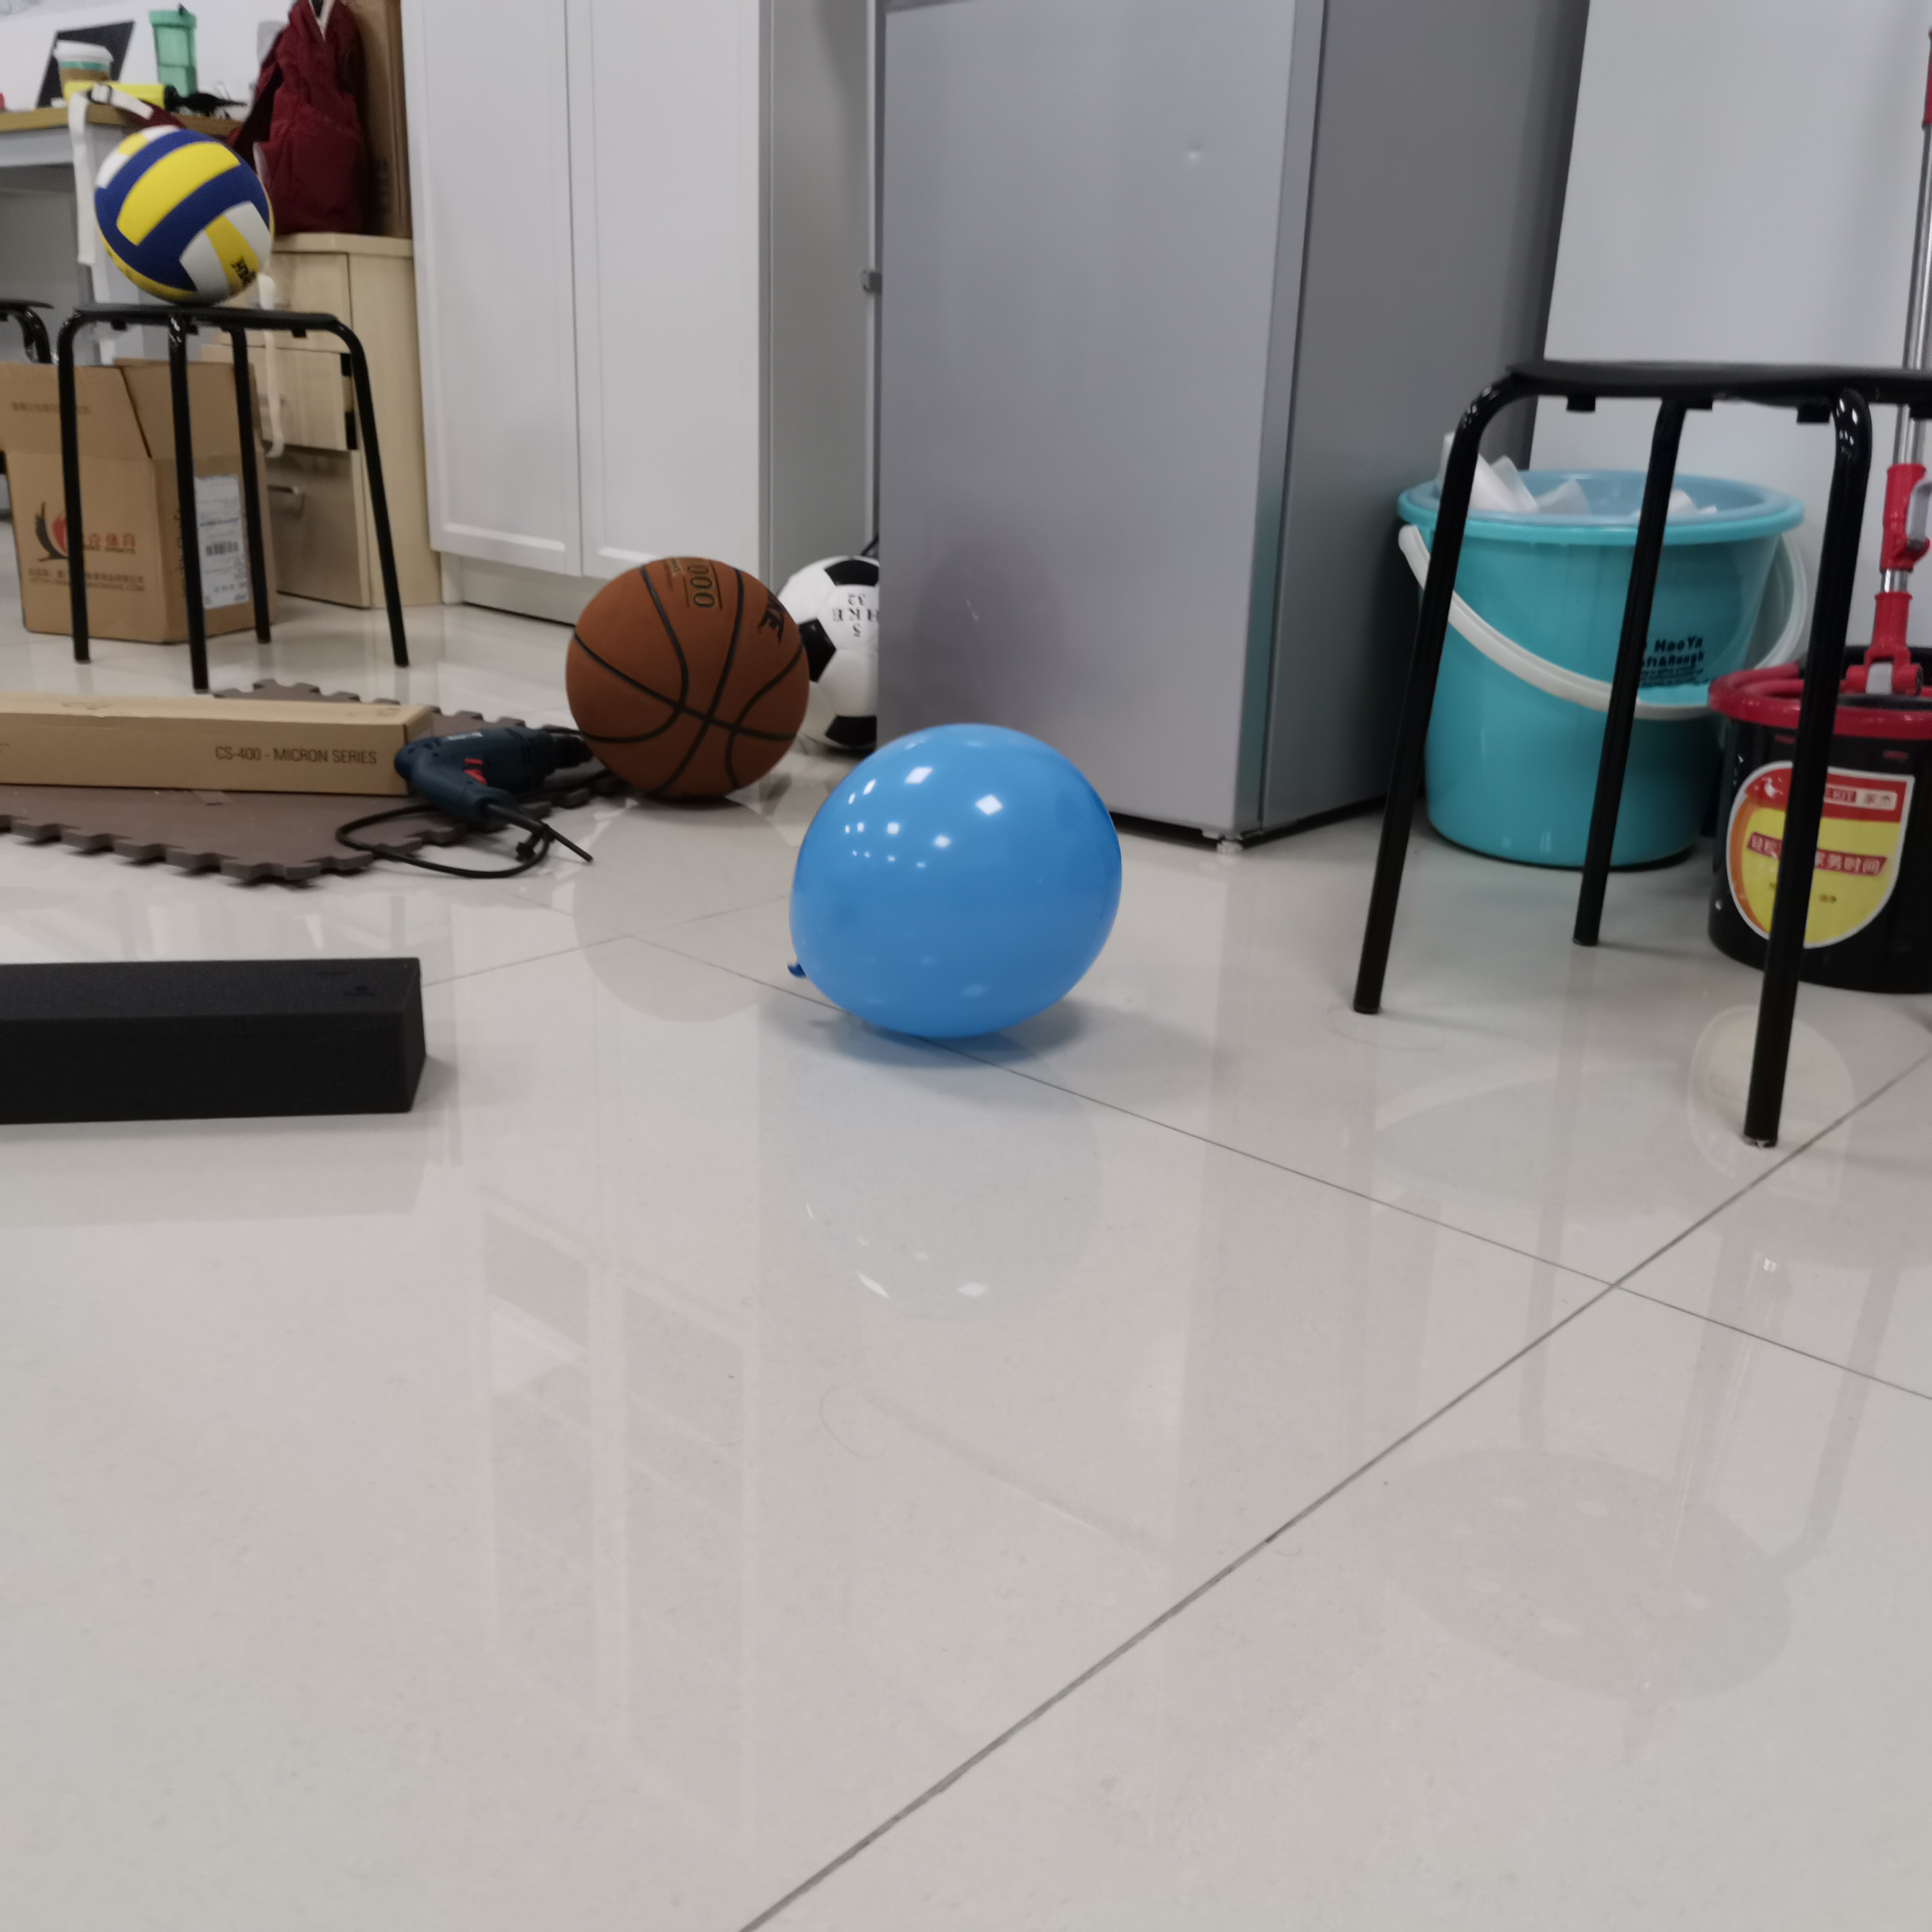balloon: (789, 722, 1123, 1040)
basketball: (566, 556, 809, 807)
football: (809, 552, 878, 748)
volleyball: (94, 126, 274, 306)
